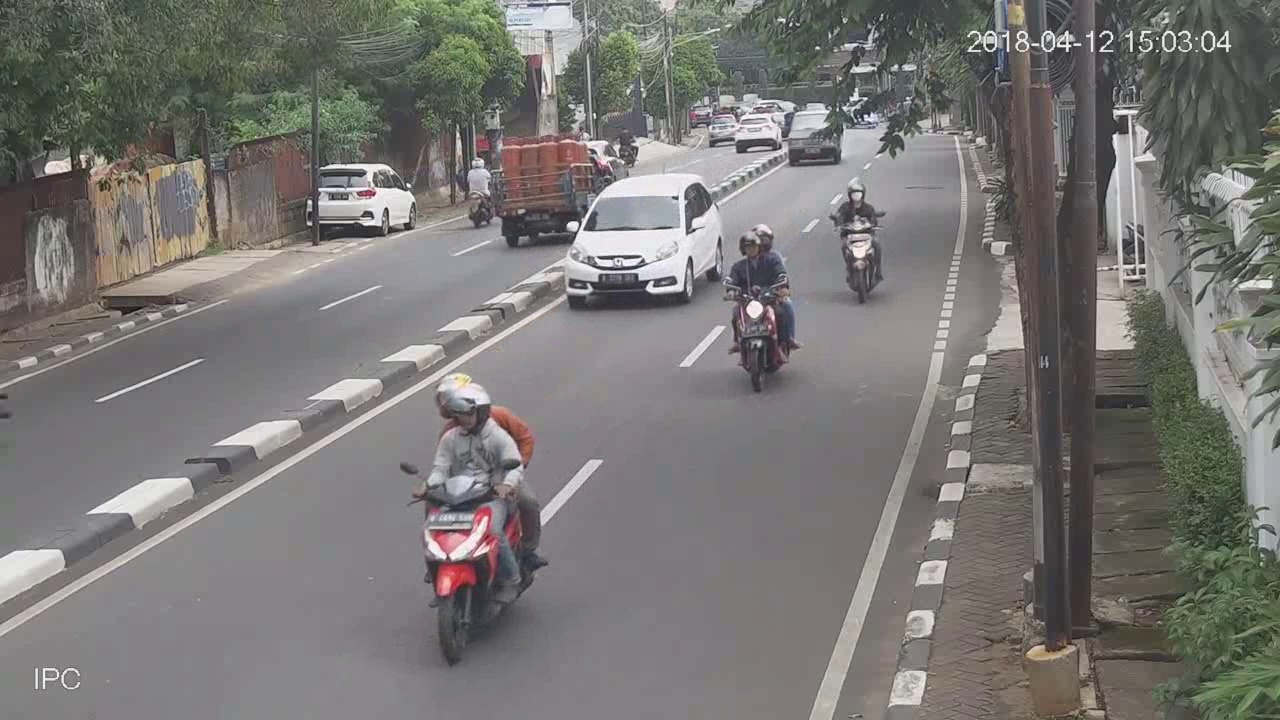car: (566, 172, 724, 308), (308, 158, 422, 237), (785, 107, 839, 168), (738, 112, 778, 154), (704, 111, 738, 146)
motorcycle: (399, 373, 547, 672), (722, 222, 810, 397), (827, 178, 892, 304), (461, 150, 493, 237)
truck: (496, 139, 588, 241)
